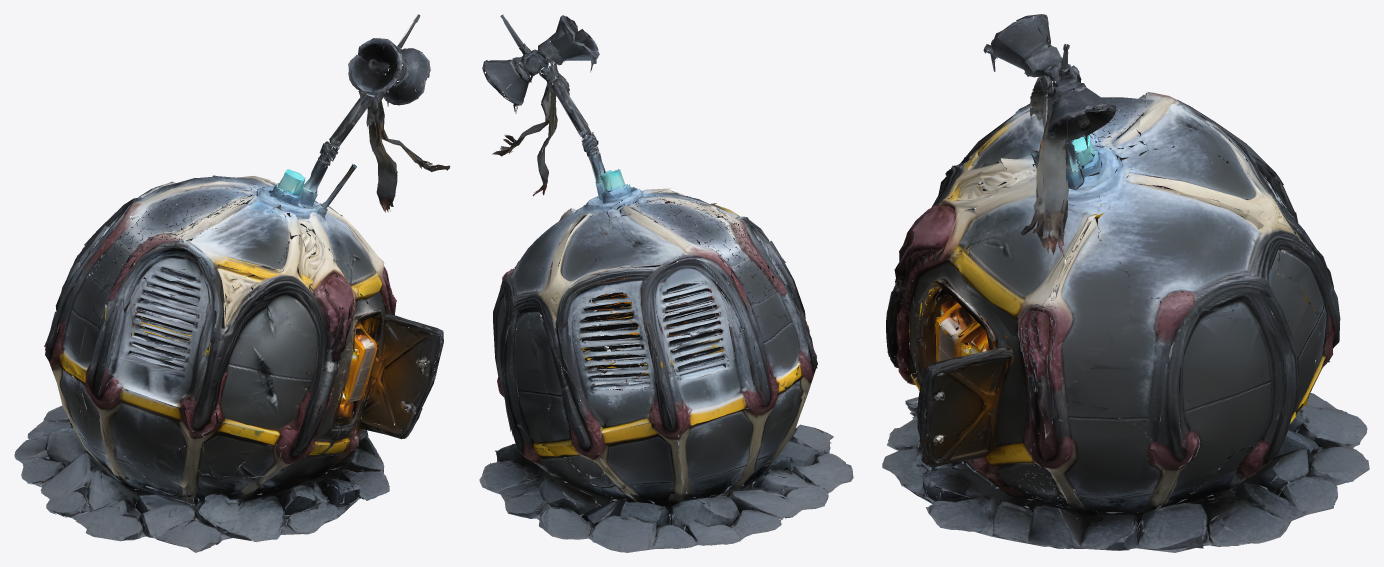
Rendered from quest_lost_probe.glb.
3 renders of one model, left to right at view 1: azimuth 30°, elevation 25°; view 2: azimuth 150°, elevation 25°; view 3: azimuth 270°, elevation 25°, orthographic. The views are drawn at different scales.
Parts seen in each view (by area): view 1: node_0; view 2: node_0; view 3: node_0.
Part boxes in pixels (bbox=[...]): node_0: bbox=[14, 14, 450, 552]; node_0: bbox=[479, 14, 853, 552]; node_0: bbox=[882, 14, 1369, 552].
Bounding box in the file's own units: 0.7948 × 0.8704 × 0.7171.
Materials: 1 (1 with a texture image).
